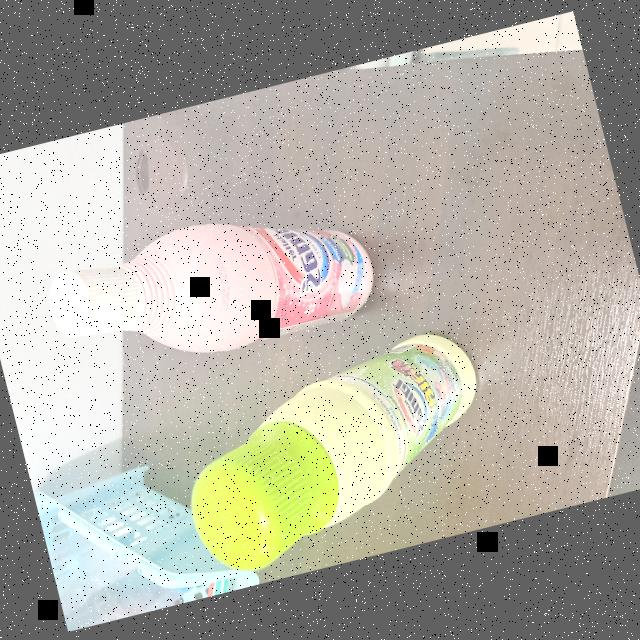chemical_plastic_bottle: (158, 309, 516, 582), (35, 183, 388, 402)
